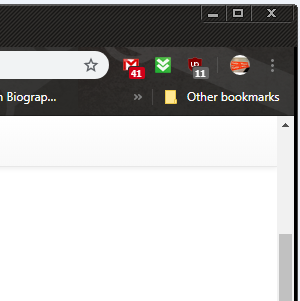close: (251, 3, 293, 23)
